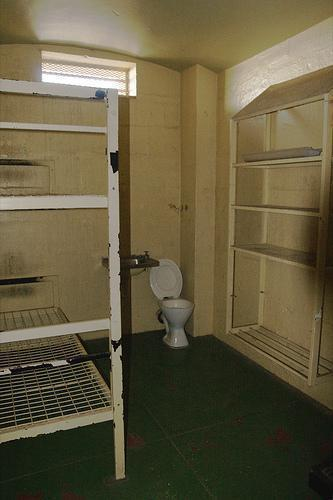Sanitario: (147, 259, 193, 353)
